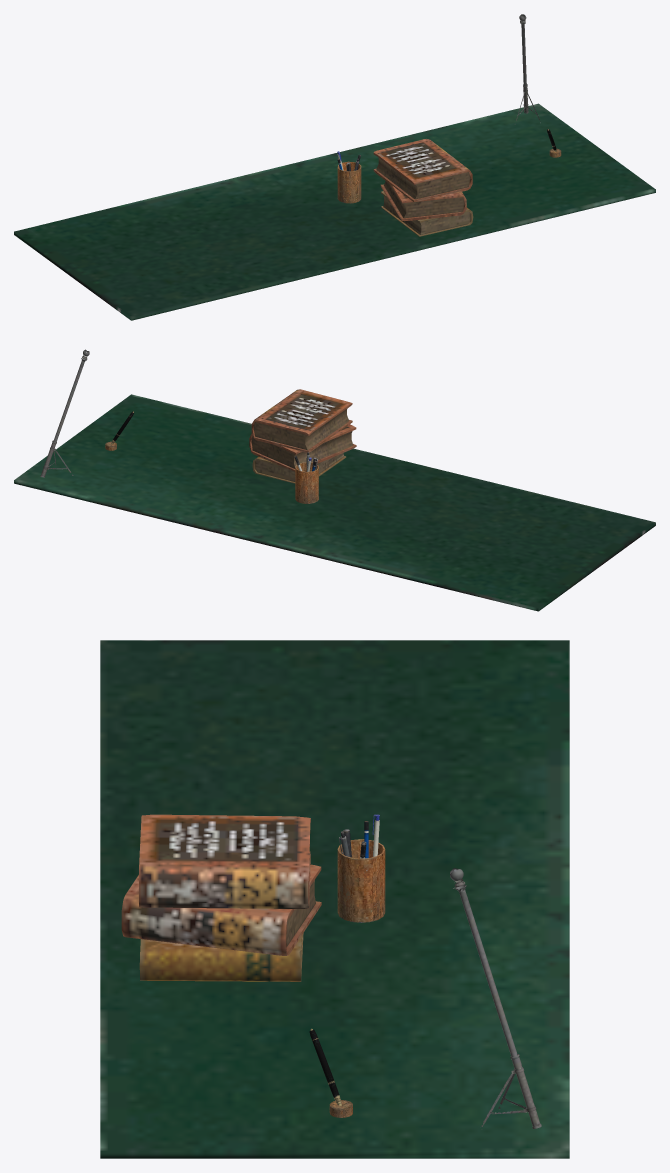
File: sm39_053_officedeskset04a.fbx
The picture shows the model from 3 angles, top to bottom: view 1: azimuth 30°, elevation 25°; view 2: azimuth 150°, elevation 25°; view 3: azimuth 270°, elevation 25°; orthographic projection. The views are drawn at different scales.
Parts seen in each view (by area): view 1: LOD_1_Group_0_Sub_5__sm36_047_DeskMat01A_A_Mat, LOD_1_Group_0_Sub_1__sm36_001_BookSet01A_A_Mat, LOD_1_Group_0_Sub_2__sm36_031_Penholder01A_E_Mat1, LOD_1_Group_0_Sub_4__sm21_021_Flag01A_A_Mat; view 2: LOD_1_Group_0_Sub_5__sm36_047_DeskMat01A_A_Mat, LOD_1_Group_0_Sub_1__sm36_001_BookSet01A_A_Mat, LOD_1_Group_0_Sub_2__sm36_031_Penholder01A_E_Mat1, LOD_1_Group_0_Sub_4__sm21_021_Flag01A_A_Mat; view 3: LOD_1_Group_0_Sub_5__sm36_047_DeskMat01A_A_Mat, LOD_1_Group_0_Sub_1__sm36_001_BookSet01A_A_Mat, LOD_1_Group_0_Sub_2__sm36_031_Penholder01A_E_Mat1, LOD_1_Group_0_Sub_4__sm21_021_Flag01A_A_Mat.
Part boxes in pixels (x1,y1,x2,y2): LOD_1_Group_0_Sub_5__sm36_047_DeskMat01A_A_Mat: [14, 103, 655, 320]; LOD_1_Group_0_Sub_1__sm36_001_BookSet01A_A_Mat: [373, 139, 473, 236]; LOD_1_Group_0_Sub_2__sm36_031_Penholder01A_E_Mat1: [337, 151, 361, 203]; LOD_1_Group_0_Sub_4__sm21_021_Flag01A_A_Mat: [514, 14, 540, 124]; LOD_1_Group_0_Sub_5__sm36_047_DeskMat01A_A_Mat: [14, 394, 655, 611]; LOD_1_Group_0_Sub_1__sm36_001_BookSet01A_A_Mat: [249, 389, 356, 483]; LOD_1_Group_0_Sub_2__sm36_031_Penholder01A_E_Mat1: [294, 452, 318, 503]; LOD_1_Group_0_Sub_4__sm21_021_Flag01A_A_Mat: [40, 349, 89, 477]; LOD_1_Group_0_Sub_5__sm36_047_DeskMat01A_A_Mat: [100, 640, 569, 1158]; LOD_1_Group_0_Sub_1__sm36_001_BookSet01A_A_Mat: [121, 814, 321, 981]; LOD_1_Group_0_Sub_2__sm36_031_Penholder01A_E_Mat1: [337, 814, 385, 922]; LOD_1_Group_0_Sub_4__sm21_021_Flag01A_A_Mat: [450, 868, 541, 1128].
Bounding box in the file's own units: 1.66 × 0.3758 × 0.6451.
